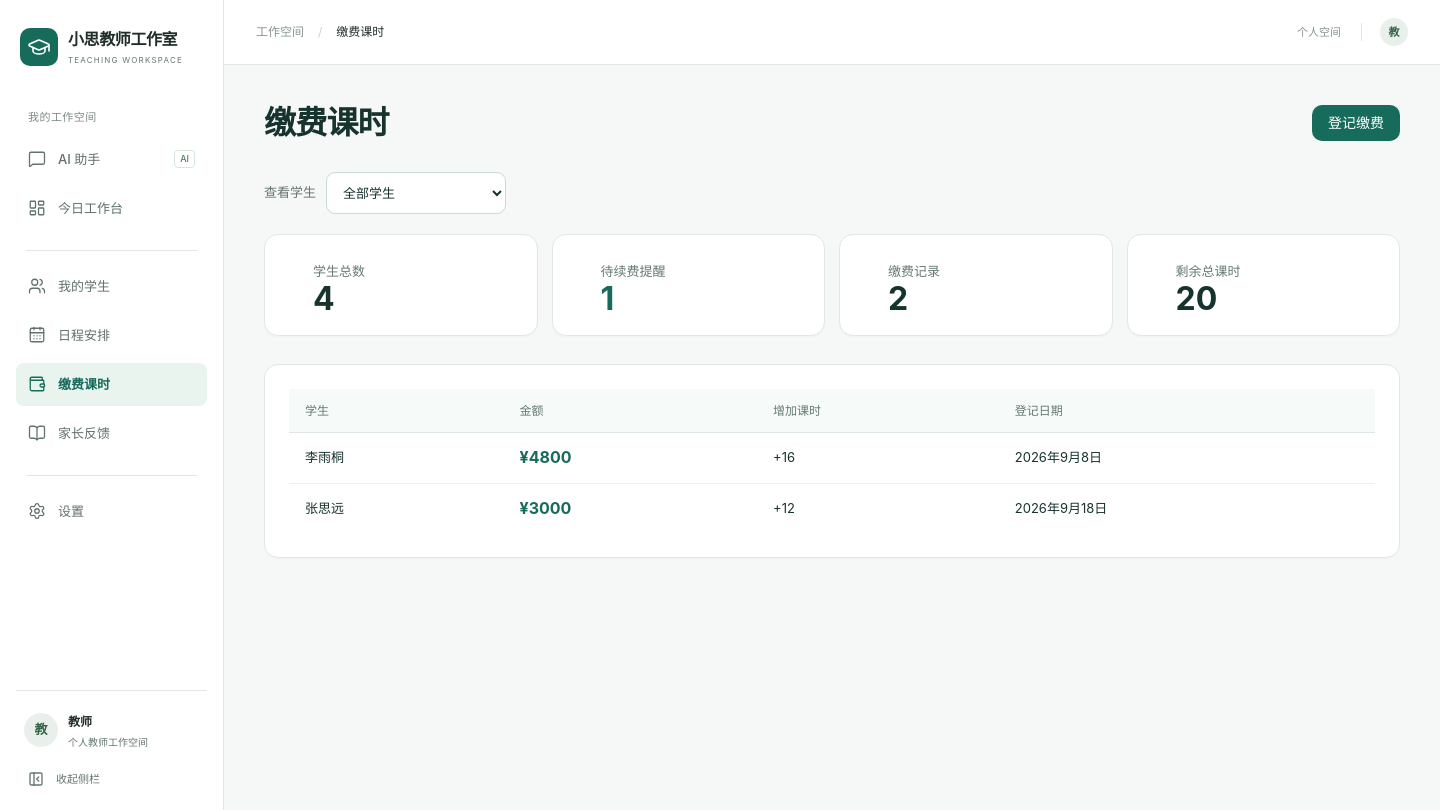
Test: UI审查修复：工作台与缴费 › 缴费确认展示余额变化，返回修改保留内容，只确认后记账
Select "王浩然" in the dropdown labelled "查看学生" at (416, 193), box x1=326 y1=172 x2=506 y2=214
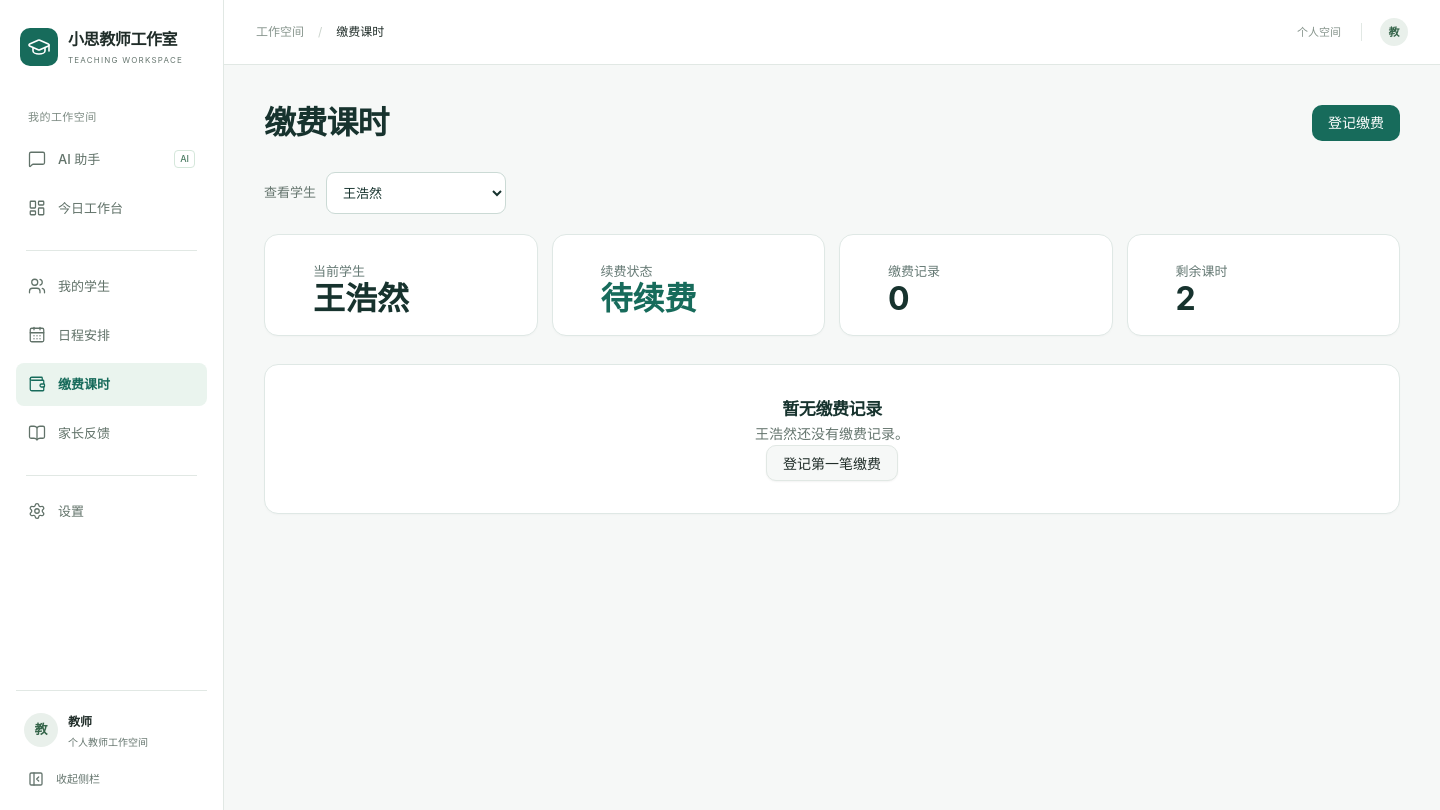
Click the button "登记缴费".
click(1356, 123)  # box x1=1312 y1=105 x2=1400 y2=141
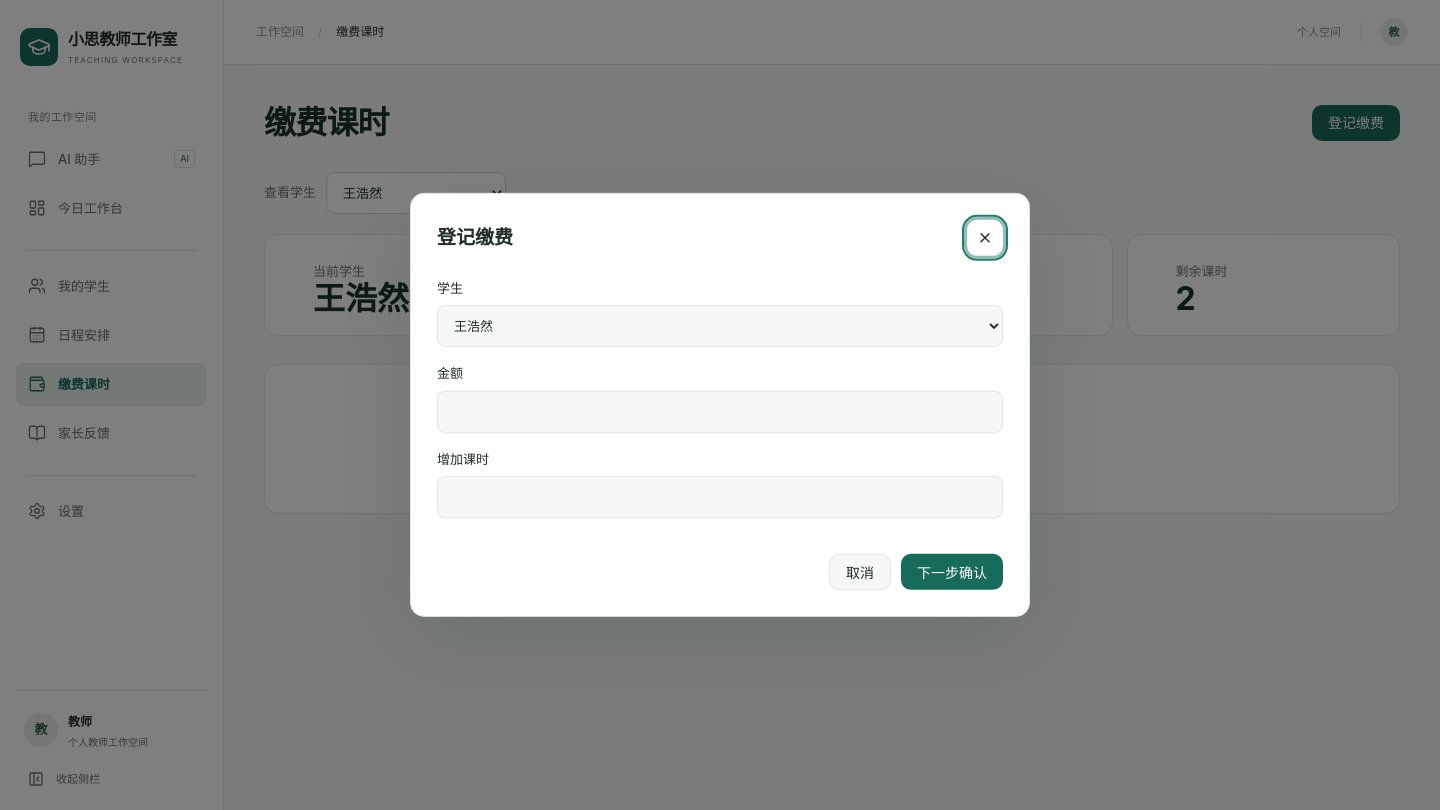
Type "500" into the number field labelled "金额".
click(720, 412); type("500")  # box x1=437 y1=391 x2=1003 y2=433
Type "5" into the number field labelled "增加课时".
click(720, 497); type("5")  # box x1=437 y1=476 x2=1003 y2=518
Click the button "下一步确认".
click(952, 572)  # box x1=901 y1=554 x2=1003 y2=590
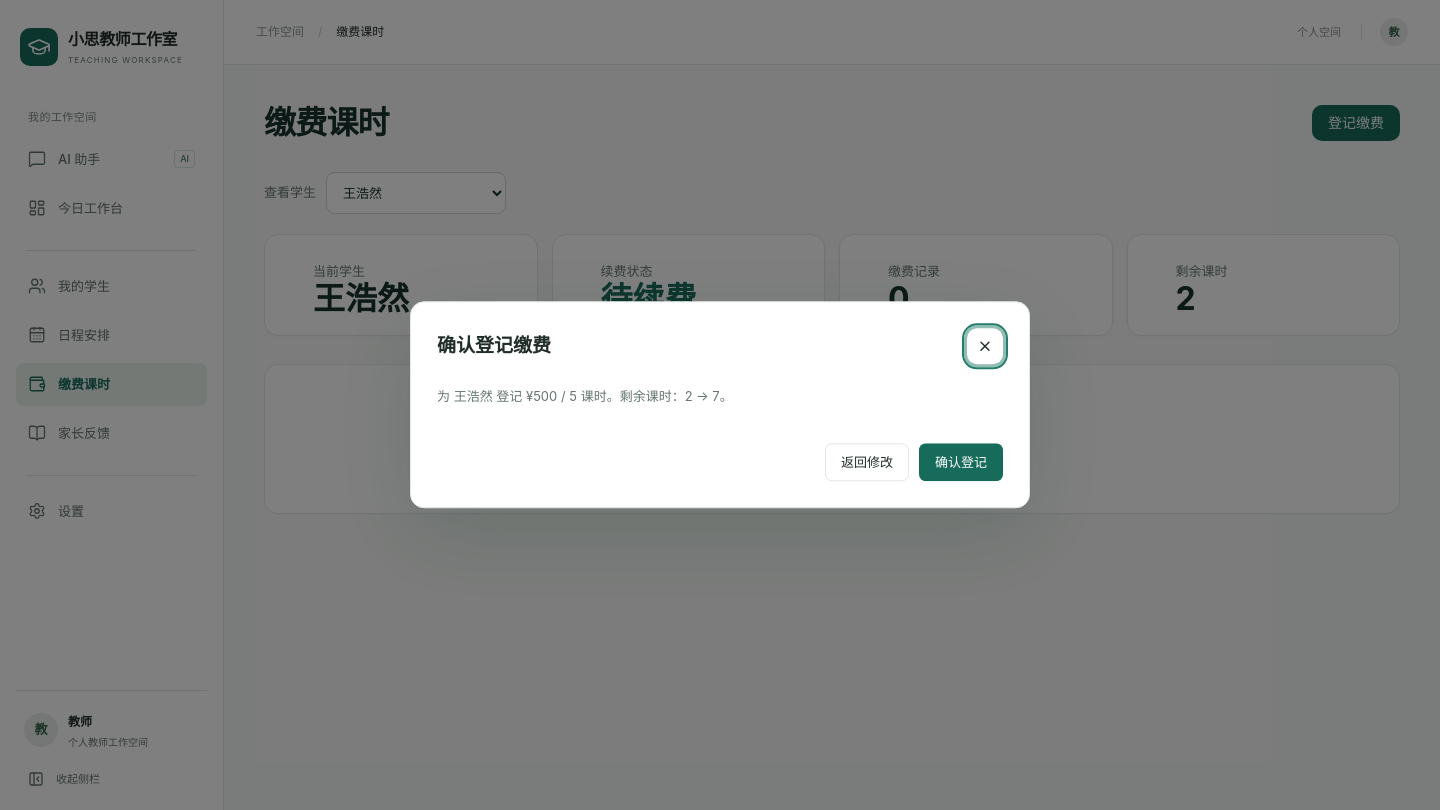
Now the dialog shows "2 → 7", box x1=410 y1=301 x2=1030 y2=509
Click the button "返回修改".
click(867, 463)  # box x1=825 y1=444 x2=909 y2=482
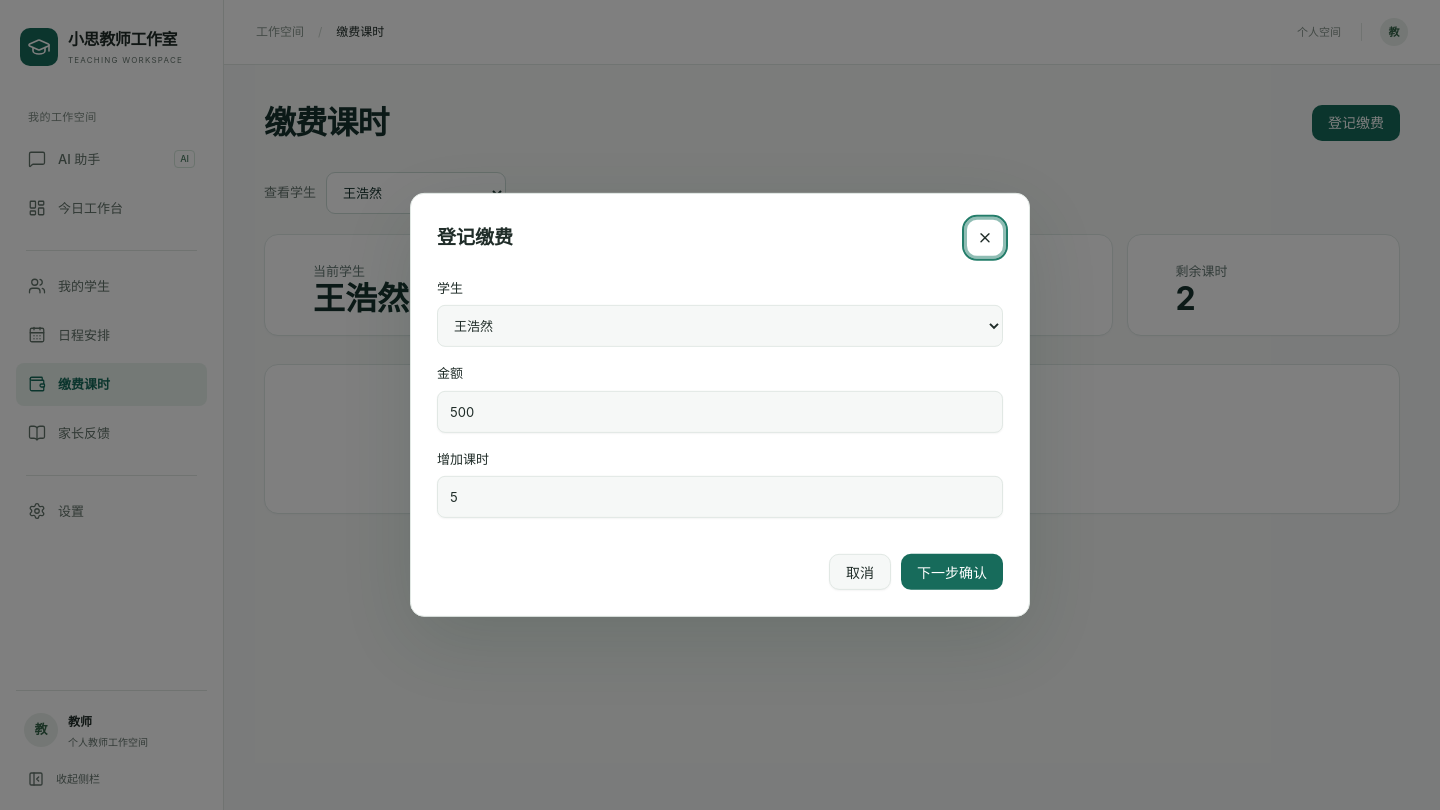
Now the number field labelled "金额" holds "500", box x1=437 y1=391 x2=1003 y2=433
Now the number field labelled "增加课时" holds "5", box x1=437 y1=476 x2=1003 y2=518
Click the button "下一步确认".
click(952, 572)  # box x1=901 y1=554 x2=1003 y2=590
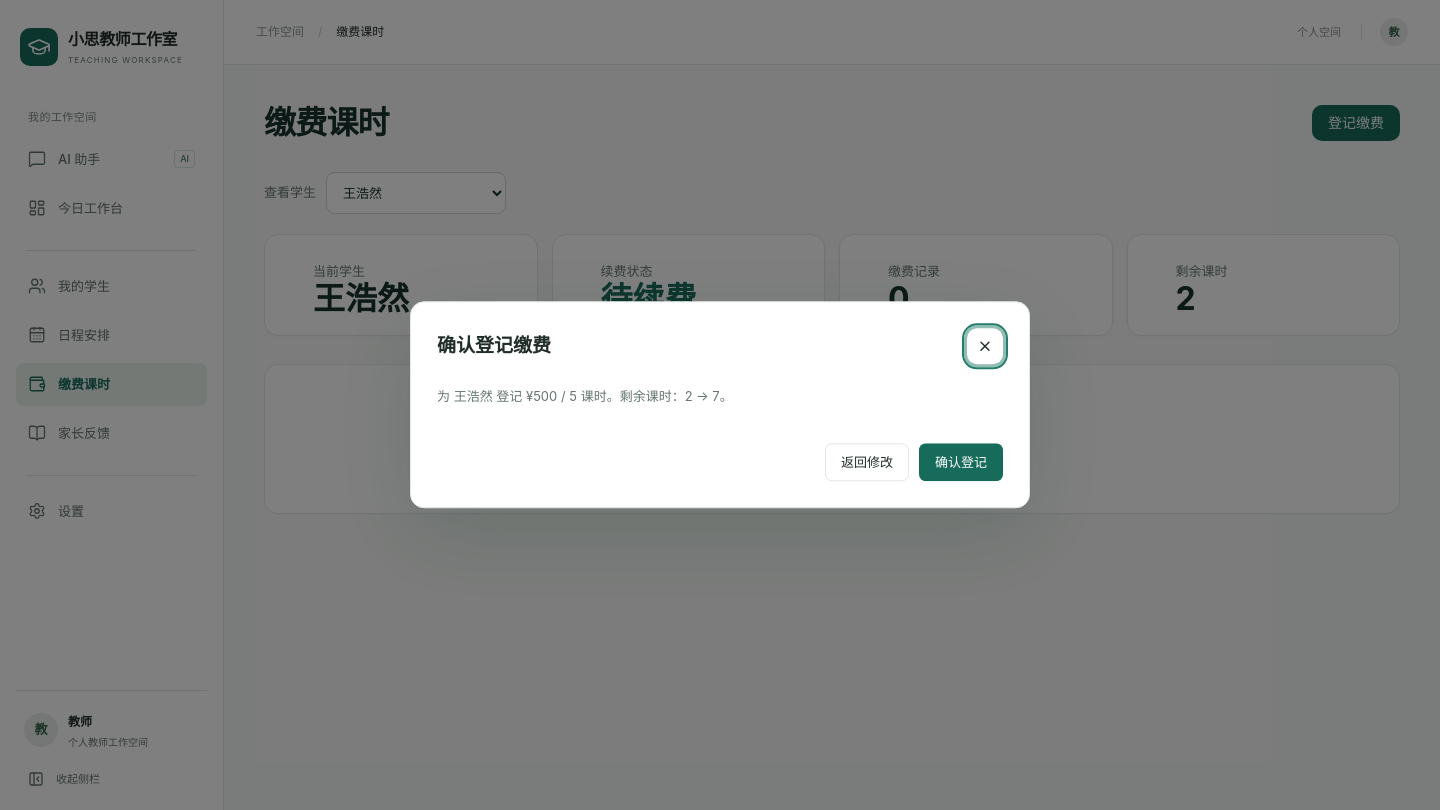
Click the button "确认登记".
click(961, 463)  # box x1=919 y1=444 x2=1003 y2=482
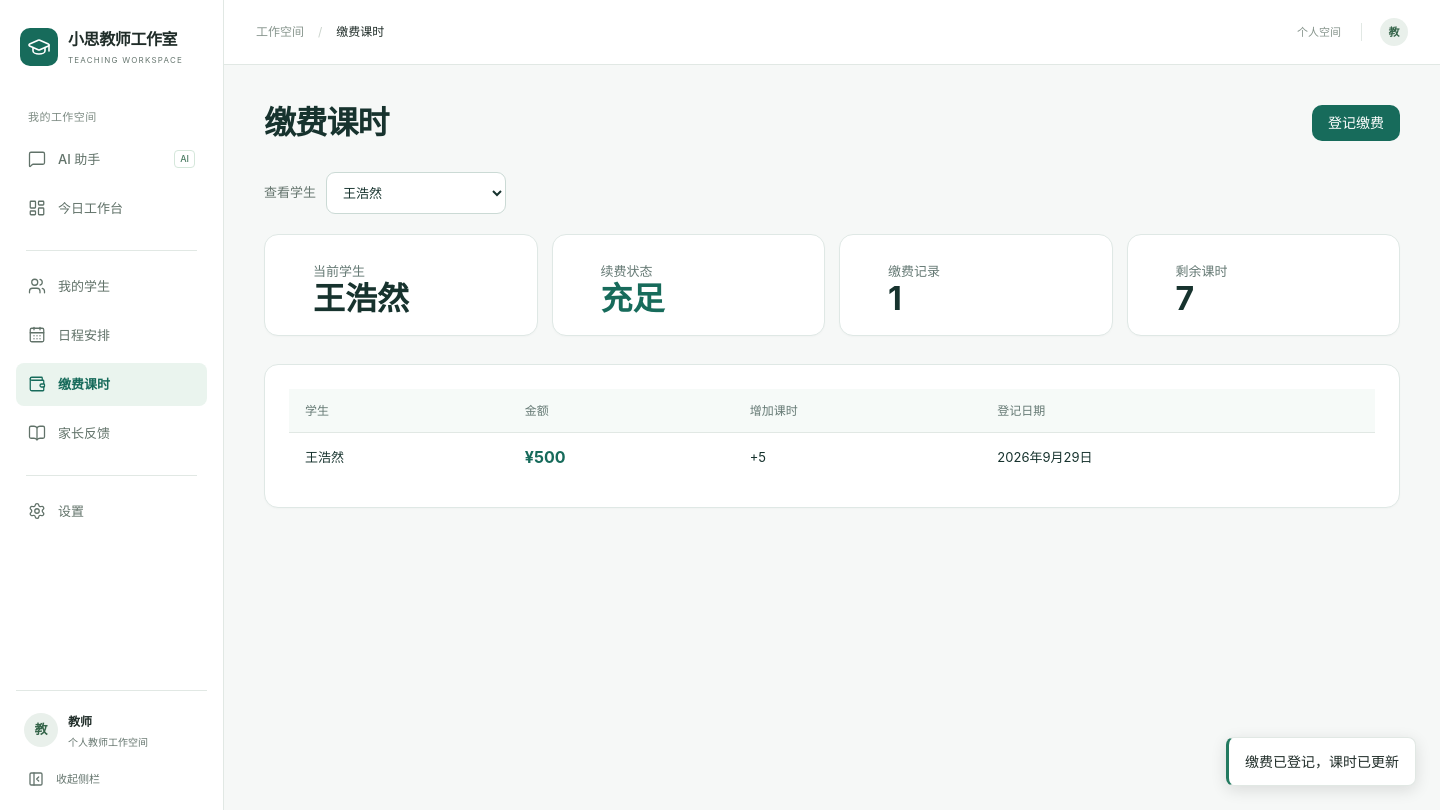
Now the heading "暂无缴费记录" is gone
Now the table shows "¥500", box x1=289 y1=389 x2=1375 y2=483
